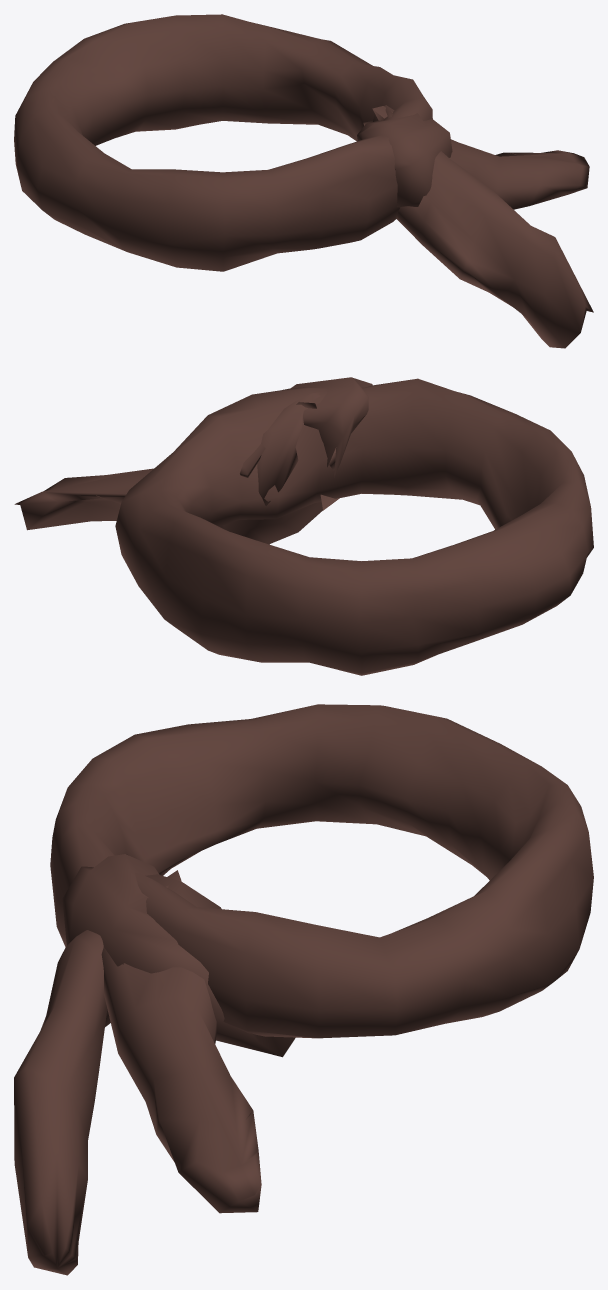
File: Schal.obj
The picture shows the model from 3 angles, top to bottom: view 1: azimuth 30°, elevation 25°; view 2: azimuth 150°, elevation 25°; view 3: azimuth 270°, elevation 25°; orthographic projection. The views are drawn at different scales.
Visible parts, largest first — view 1: Torus002; view 2: Torus002; view 3: Torus002.
Part boxes in pixels (x1,y1,x2,y2): Torus002: (14, 14, 593, 348); Torus002: (14, 377, 593, 675); Torus002: (14, 704, 593, 1275).
Size of the model in its own units: 2.16 by 0.9766 by 1.57.
